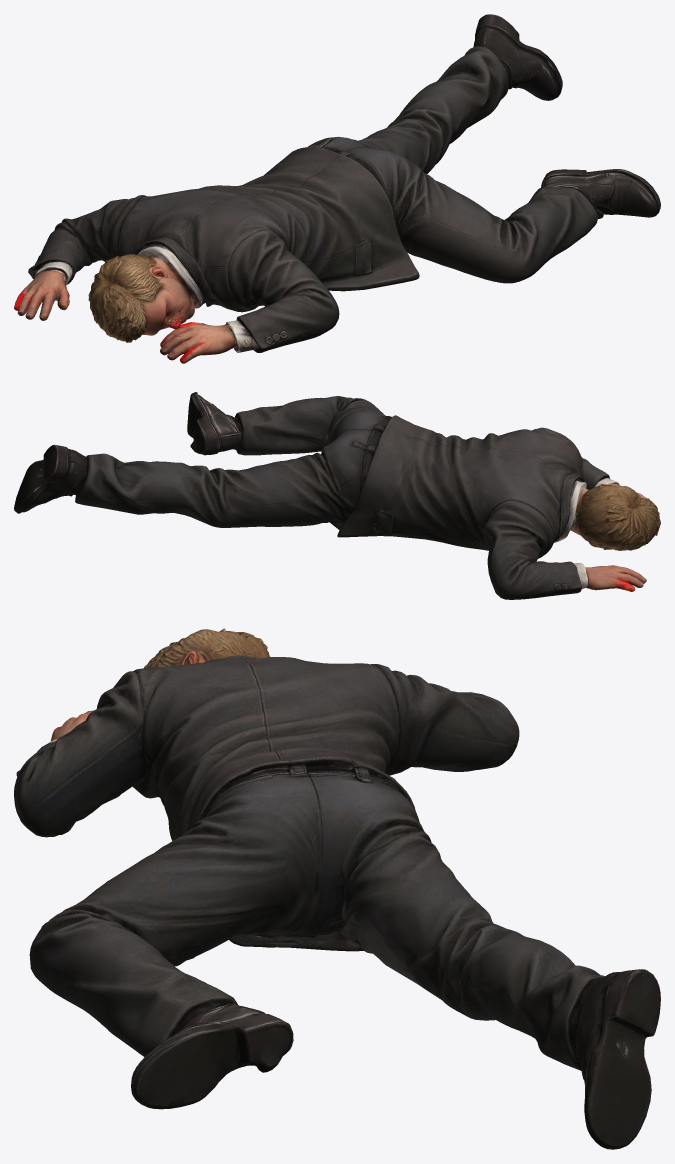
Rendered from ceo_dead2.glb.
3 renders of one model, top to bottom at view 1: azimuth 30°, elevation 25°; view 2: azimuth 150°, elevation 25°; view 3: azimuth 270°, elevation 25°, orthographic. The views are drawn at different scales.
Visible parts, largest first — view 1: mesh_node; view 2: mesh_node; view 3: mesh_node.
Part boxes in pixels (x1,y1,x2,y2): mesh_node: (14,14,660,363); mesh_node: (14,392,660,599); mesh_node: (14,628,660,1149).
Size of the model in its own units: 1.9 by 0.2932 by 1.1.
1 material, 1 textured.
